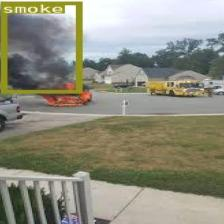smoke: (0, 1, 80, 92)
